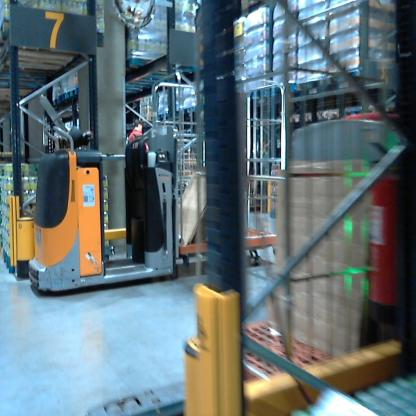pallet: (1, 14, 87, 71), (325, 70, 377, 93), (291, 79, 327, 99), (282, 110, 318, 129), (272, 80, 300, 101), (313, 108, 342, 125), (248, 85, 274, 103), (337, 105, 366, 121), (364, 101, 396, 114)
pallet_truck: (16, 86, 208, 299)
